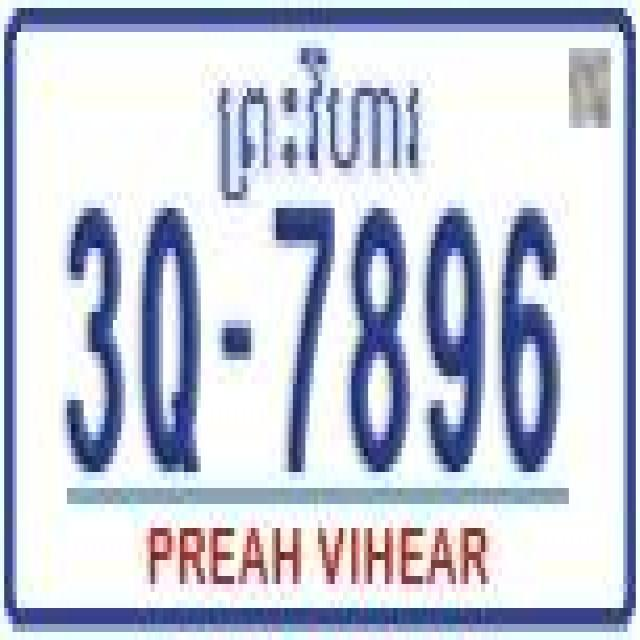Preah_Vihear: (205, 40, 437, 209)
